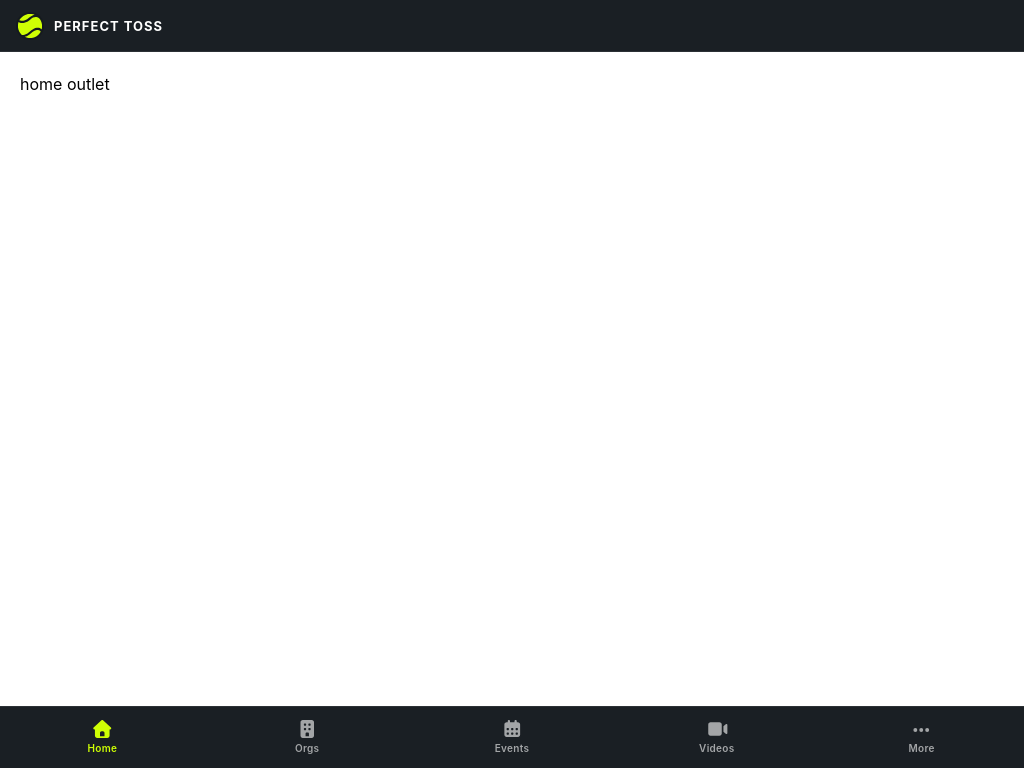
mobile shell › omits the admin section in the sheet for non-admins
Step 1. Click the button "More" → (922, 738), box [819, 707, 1023, 767]
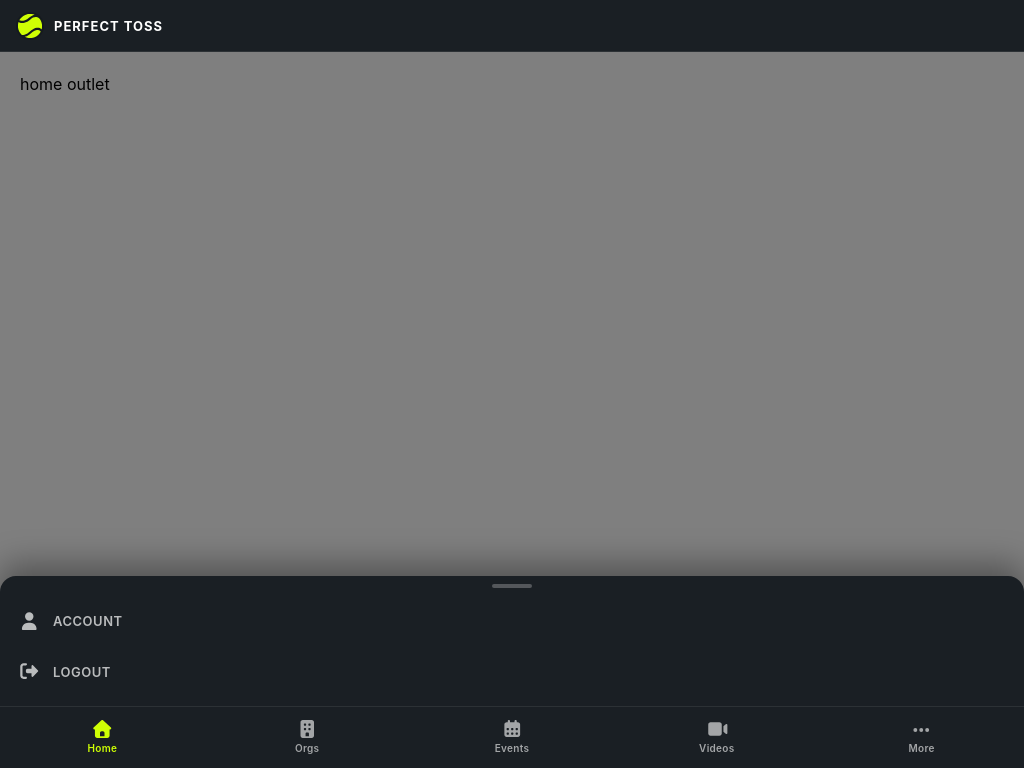
Expected: the link "ACCOUNT" is shown, [18, 612, 123, 630]
